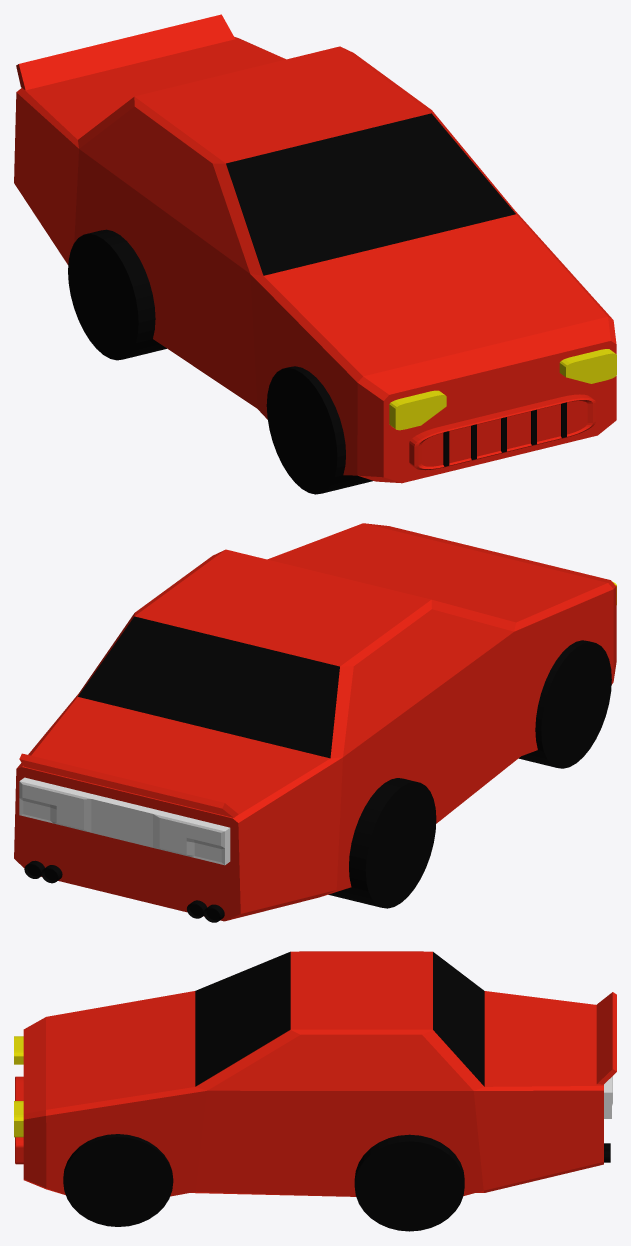
The model's file is redCar.glb.
The picture shows the model from 3 angles, top to bottom: view 1: azimuth 30°, elevation 25°; view 2: azimuth 150°, elevation 25°; view 3: azimuth 270°, elevation 25°; orthographic projection. The views are drawn at different scales.
Visible parts, largest first — view 1: Car_Red; view 2: Car_Red; view 3: Car_Red.
Boxes of the visible parts, bbox=[...] form: Car_Red: bbox=[14, 14, 616, 494]; Car_Red: bbox=[14, 523, 616, 922]; Car_Red: bbox=[14, 951, 616, 1231].
Bounding box in the file's own units: 3.28 × 2.48 × 7.38.
